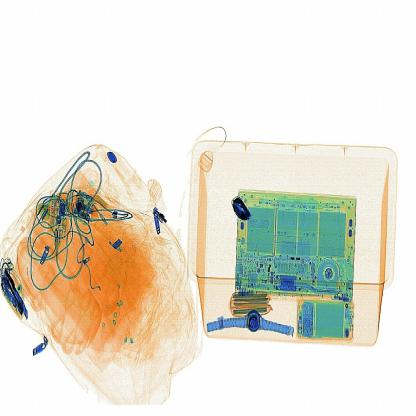scissors: (224, 189, 256, 224)
